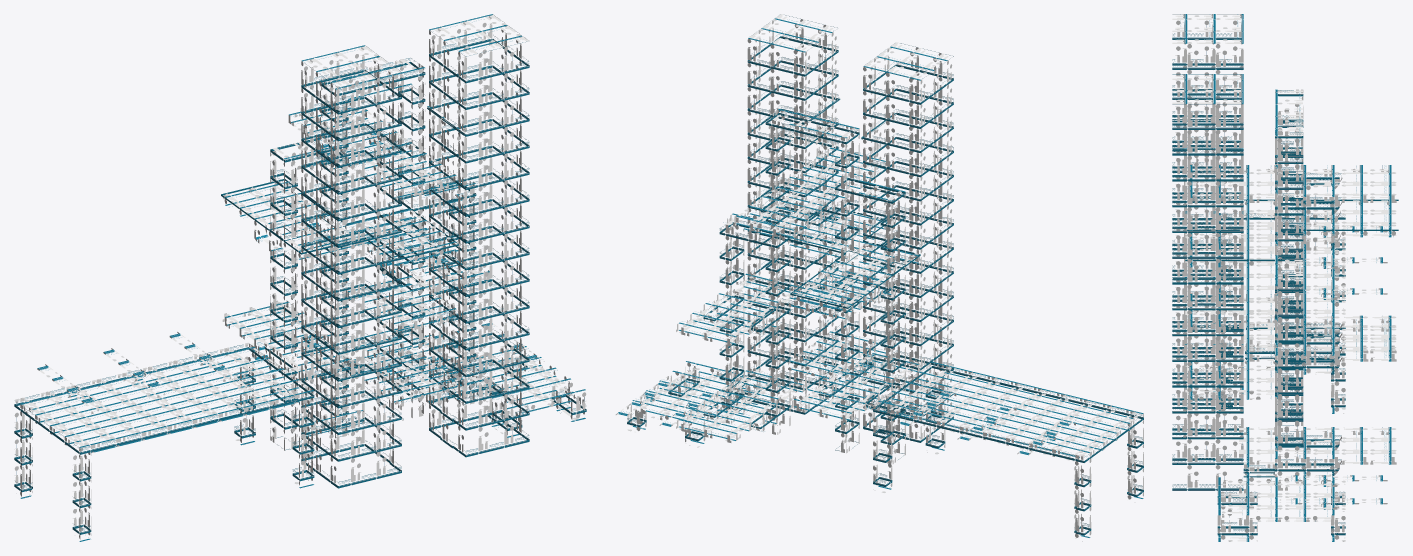
File: Plataforma.FBX
3 renders of one model, left to right at view 1: azimuth 30°, elevation 25°; view 2: azimuth 150°, elevation 25°; view 3: azimuth 270°, elevation 25°, orthographic. The views are drawn at different scales.
Parts seen in each view (by area): view 1: maria_lenk_Estrutura_01, PlataformaConcreto, PlataformaBorracha, maria_lenk_rampas; view 2: PlataformaConcreto, maria_lenk_Estrutura_01, PlataformaBorracha, maria_lenk_rampas; view 3: PlataformaConcreto, maria_lenk_Estrutura_01, PlataformaBorracha, maria_lenk_rampas.
Boxes of the visible parts, x1,y1,x2,y2 form: maria_lenk_Estrutura_01: (301, 14, 529, 488); PlataformaConcreto: (14, 58, 586, 541); PlataformaBorracha: (15, 99, 585, 447); maria_lenk_rampas: (37, 321, 544, 414); PlataformaConcreto: (627, 109, 1143, 541); maria_lenk_Estrutura_01: (747, 14, 953, 442); PlataformaBorracha: (632, 146, 1143, 456); maria_lenk_rampas: (615, 377, 1076, 455); PlataformaConcreto: (1185, 89, 1398, 541); maria_lenk_Estrutura_01: (1172, 14, 1243, 490); PlataformaBorracha: (1185, 165, 1396, 524); maria_lenk_rampas: (1279, 226, 1387, 509).
Size of the model in its own units: 19.82 by 15.52 by 7.95.
